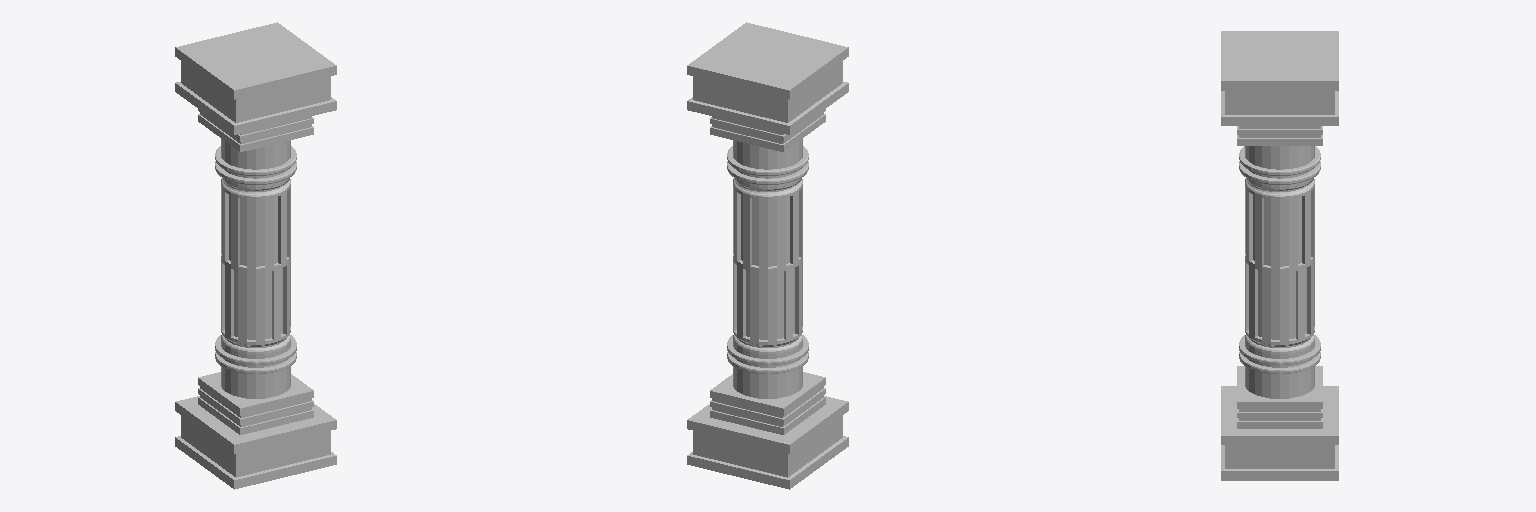
Rendered from Column1.obj.
The picture shows the model from 3 angles: view 1: azimuth 30°, elevation 25°; view 2: azimuth 150°, elevation 25°; view 3: azimuth 270°, elevation 25°; orthographic projection.
Visible parts, largest first — view 1: Column_1; view 2: Column_1; view 3: Column_1.
Part boxes in pixels (bbox=[...]): Column_1: bbox=[175, 22, 336, 489]; Column_1: bbox=[687, 22, 848, 489]; Column_1: bbox=[1221, 31, 1338, 480].
Bounding box in the file's own units: 2 × 7.45 × 2.